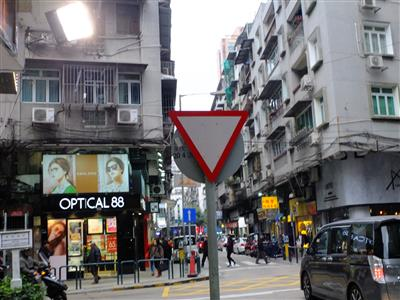oneway: (180, 205, 200, 225)
yield: (165, 106, 252, 183)
